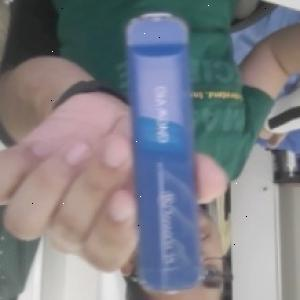Diamond-E-Ciggirate: (123, 10, 201, 294)
